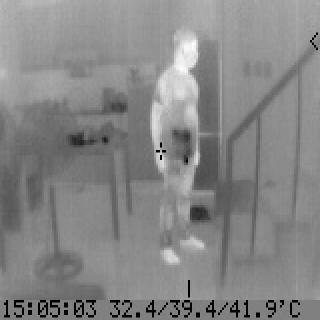Gun: (170, 125, 194, 167)
